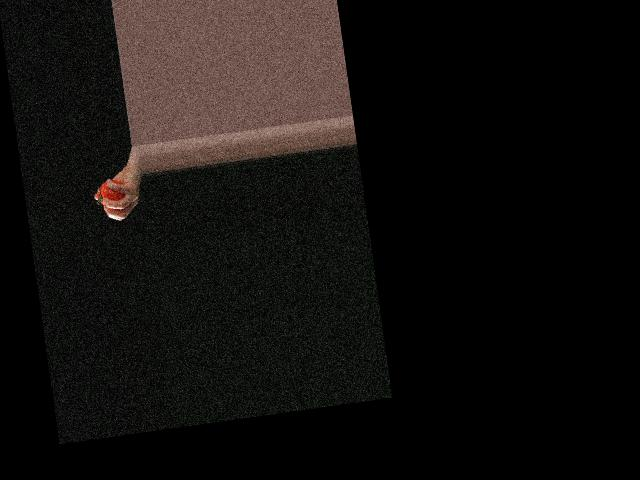tomato: (99, 178, 127, 205)
